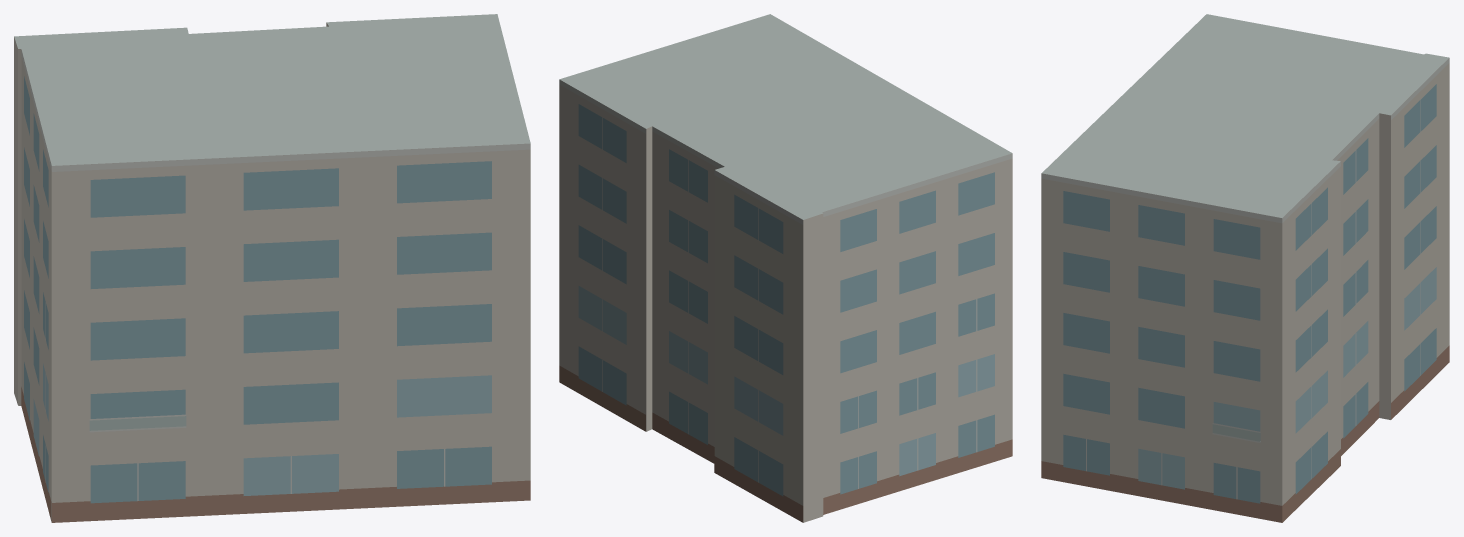
Rendered from survey-upis-32601755.glb.
The picture shows the model from 3 angles, left to right: view 1: azimuth 30°, elevation 25°; view 2: azimuth 150°, elevation 25°; view 3: azimuth 270°, elevation 25°; orthographic projection. The views are drawn at different scales.
Parts seen in each view (by area): view 1: survey-upis-32601755.tmp; view 2: survey-upis-32601755.tmp; view 3: survey-upis-32601755.tmp.
Part boxes in pixels (left/top/right/bottom): survey-upis-32601755.tmp: left=14, top=14, right=530, bottom=522; survey-upis-32601755.tmp: left=559, top=14, right=1012, bottom=522; survey-upis-32601755.tmp: left=1041, top=14, right=1449, bottom=522.
Bounding box in the file's own units: 20.58 × 14.32 × 17.39.
